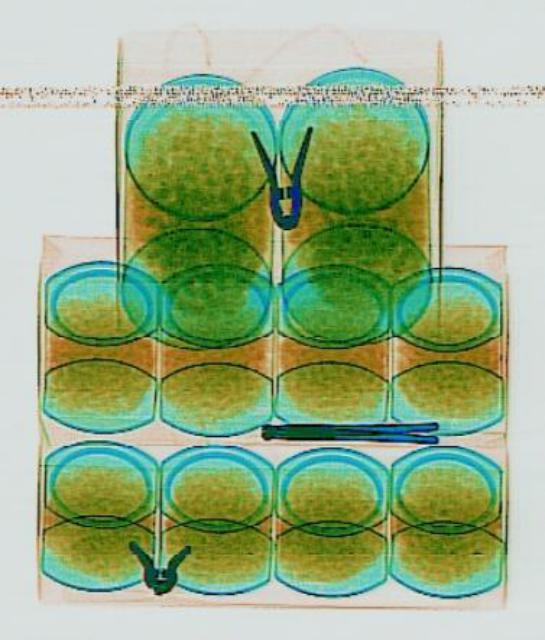Pliers: (248, 126, 313, 230), (261, 418, 436, 442)
